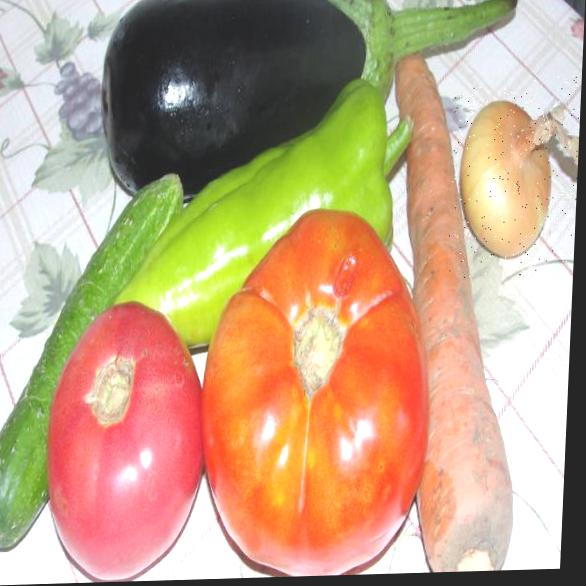Onion: (447, 76, 582, 278)
